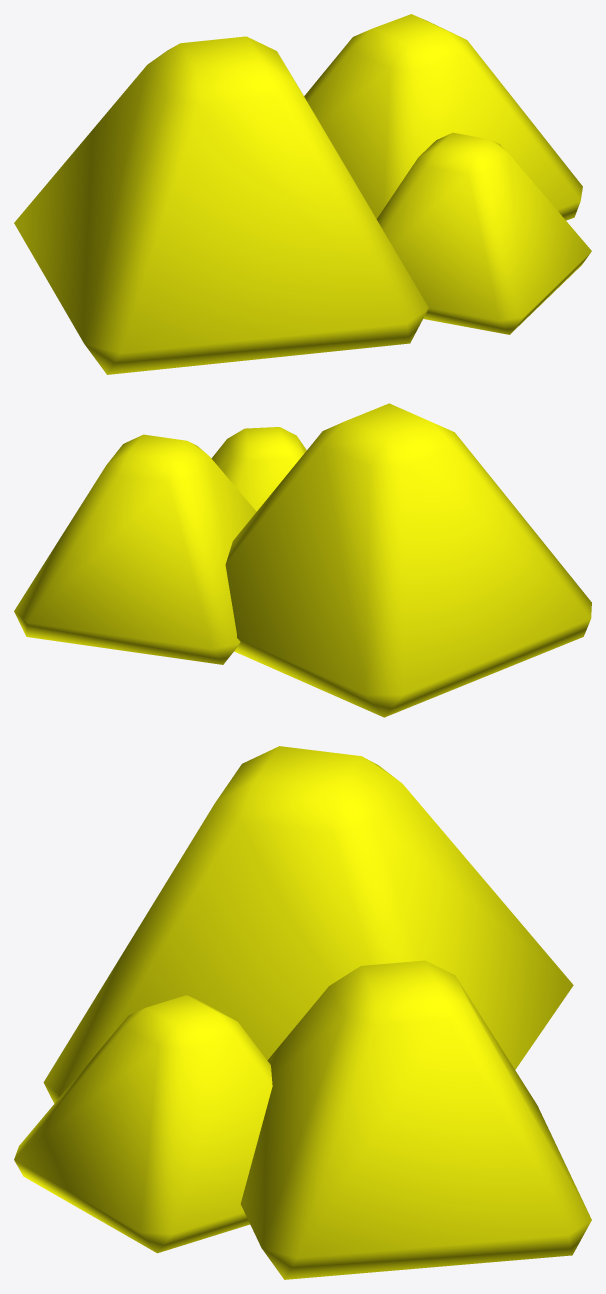
File: kaykit-bush-4-d-color-1.glb
The picture shows the model from 3 angles, top to bottom: view 1: azimuth 30°, elevation 25°; view 2: azimuth 150°, elevation 25°; view 3: azimuth 270°, elevation 25°; orthographic projection. The views are drawn at different scales.
Visible parts, largest first — view 1: Bush_4_D_Color1; view 2: Bush_4_D_Color1; view 3: Bush_4_D_Color1.
Boxes of the visible parts, <box> form: Bush_4_D_Color1: <box>14,14,591,374</box>; Bush_4_D_Color1: <box>14,403,591,717</box>; Bush_4_D_Color1: <box>14,746,591,1279</box>.
Size of the model in its own units: 1.74 by 0.7434 by 1.29.
